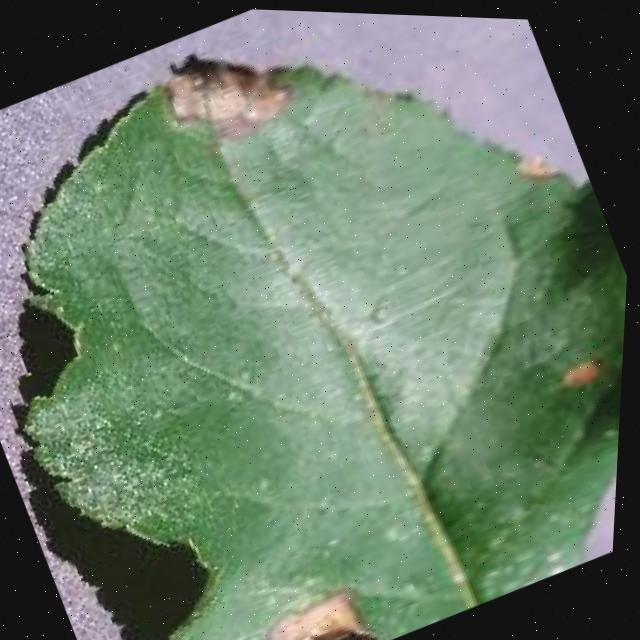black_rot: (137, 6, 329, 183), (226, 553, 398, 640), (481, 119, 585, 221), (545, 336, 624, 410)
